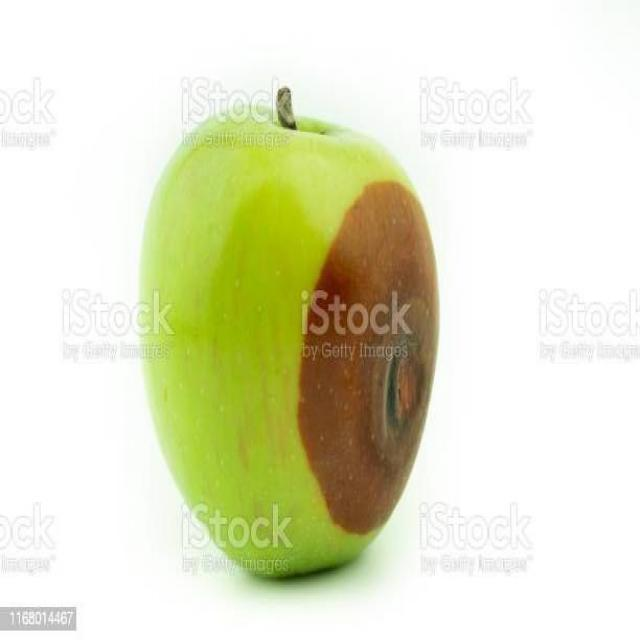Rotten: (155, 117, 428, 580)
